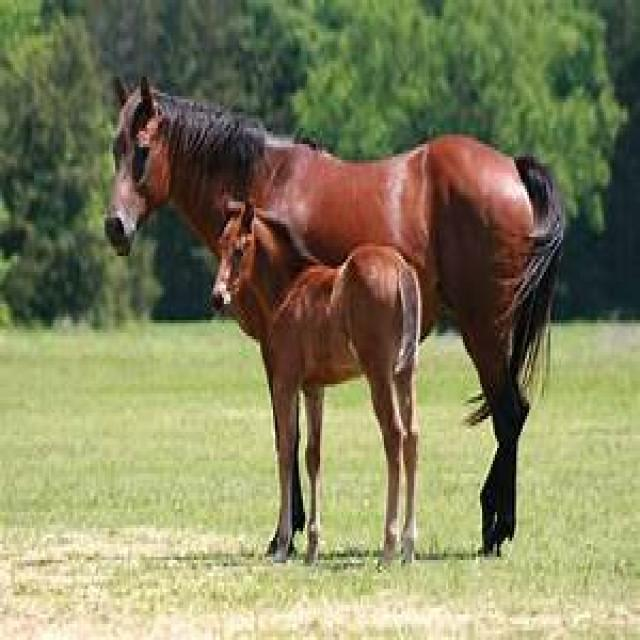horse: (105, 80, 567, 554), (218, 205, 425, 566)
